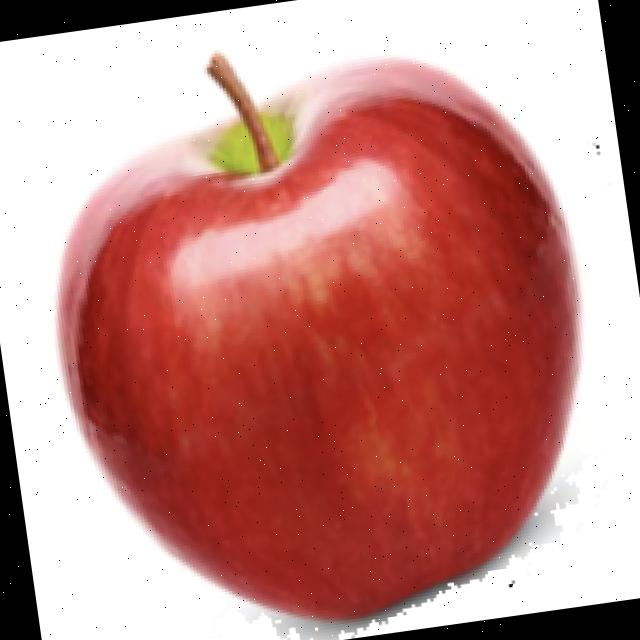apple: (49, 46, 588, 640)
